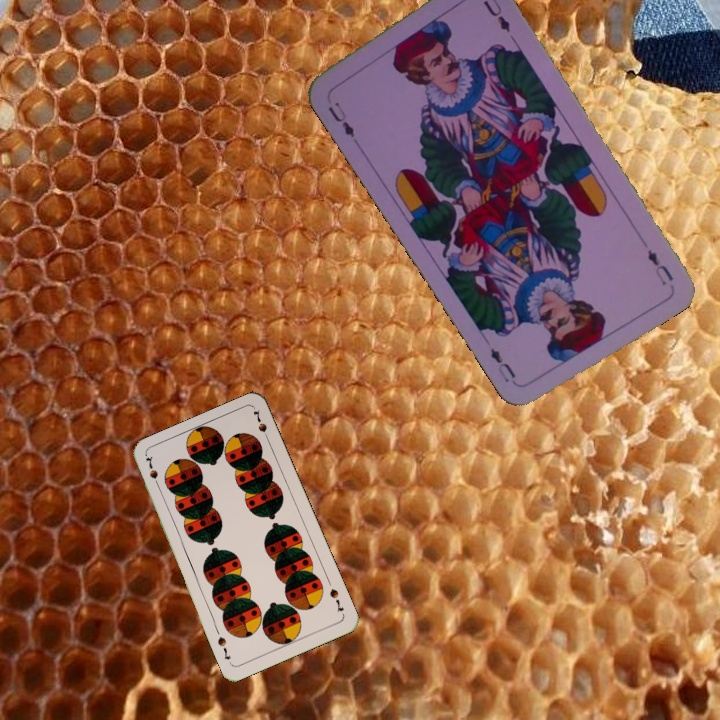EU: (324, 97, 358, 141), (643, 245, 676, 288)
S7: (141, 452, 163, 492), (325, 585, 347, 614)
